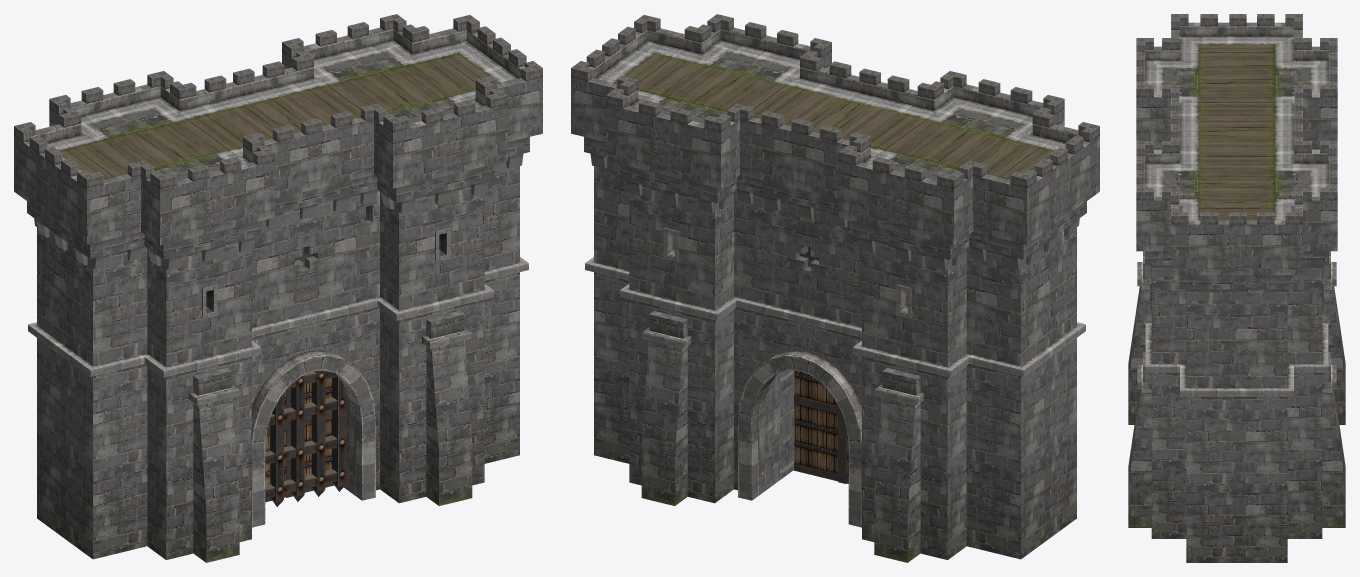
The model's file is CastleGate.FBX.
3 views of the same model, side by side, from view 1: azimuth 30°, elevation 25°; view 2: azimuth 150°, elevation 25°; view 3: azimuth 270°, elevation 25° (orthographic). The views are drawn at different scales.
Parts seen in each view (by area): view 1: CastleGate, CastleDoorShield, CastleDoor (×2); view 2: CastleGate, CastleDoor; view 3: CastleGate.
Boxes of the visible parts, x1=… form: CastleGate: x1=14, y1=14, x2=542, y2=562; CastleDoorShield: x1=265, y1=370, x2=346, y2=506; CastleDoor (×2): x1=265, y1=378, x2=334, y2=502; CastleGate: x1=571, y1=14, x2=1099, y2=562; CastleDoor: x1=793, y1=371, x2=841, y2=482; CastleGate: x1=1128, y1=14, x2=1345, y2=562.
Size of the model in its own units: 3694 by 3026 by 1681.
